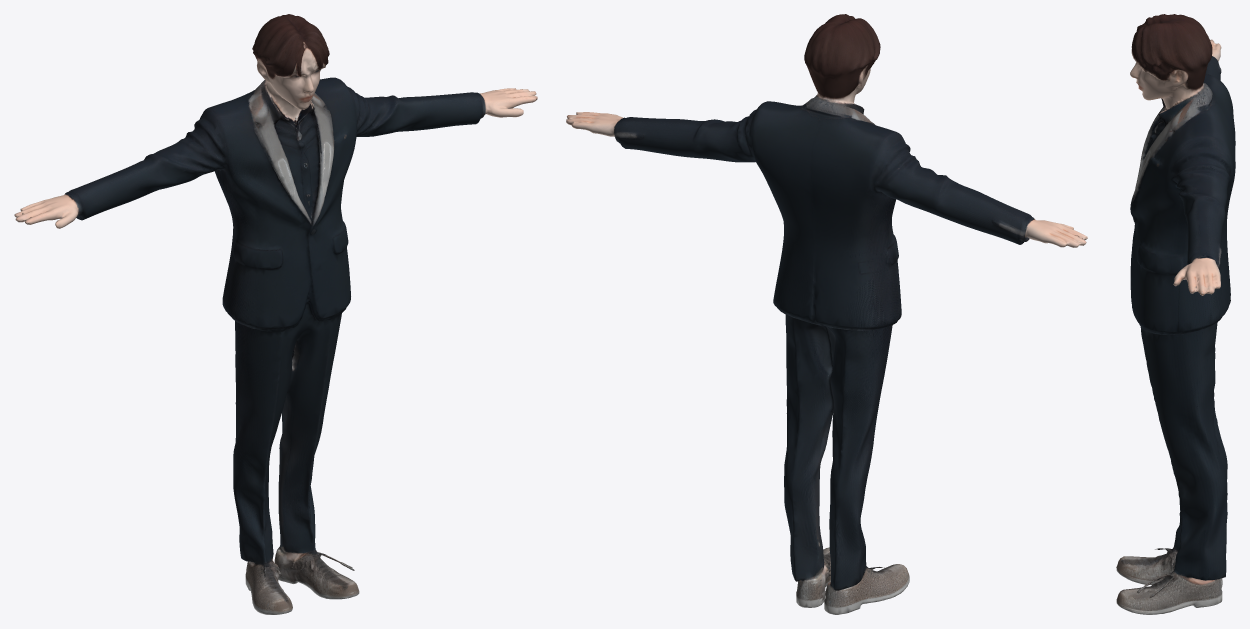
The picture shows the model from 3 angles, left to right: view 1: azimuth 30°, elevation 25°; view 2: azimuth 150°, elevation 25°; view 3: azimuth 270°, elevation 25°; orthographic projection.
Size of the model in its own units: 1.9 by 2 by 0.3752.
1 material, 1 textured.
